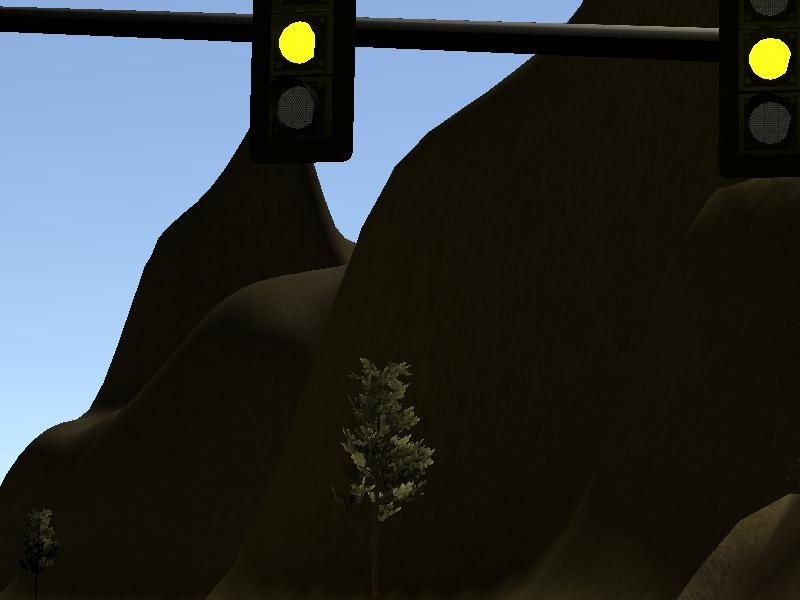yellow: (247, 4, 357, 168), (716, 5, 799, 179)
